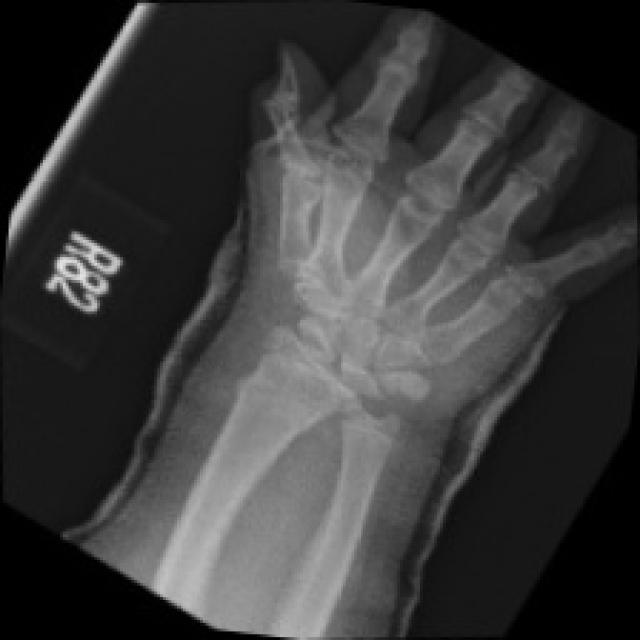fracture: (228, 349, 344, 441)
